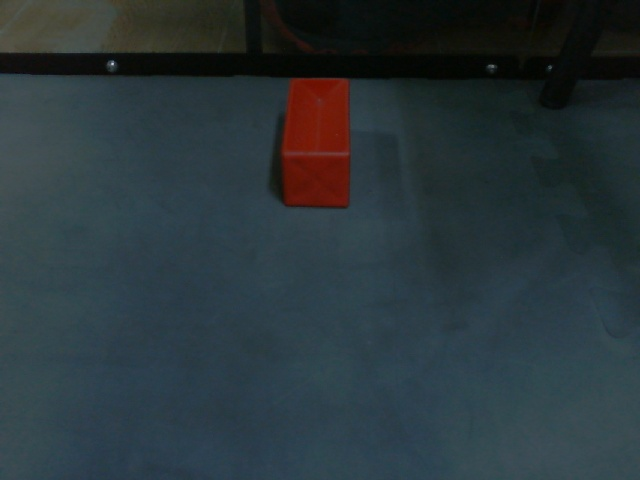RedSample: (277, 76, 354, 211)
